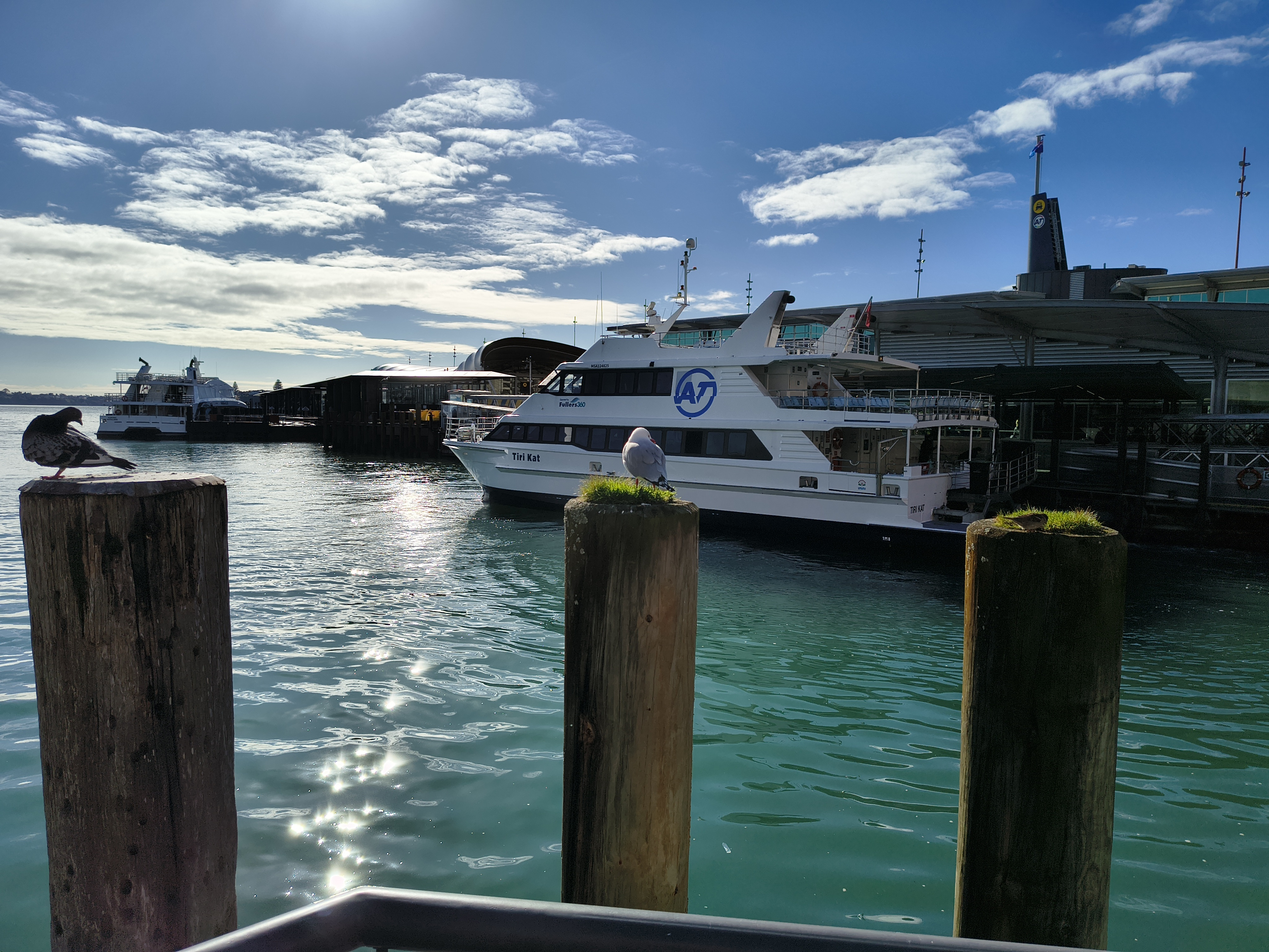ferry: (444, 290, 1036, 569), (96, 359, 252, 442)
